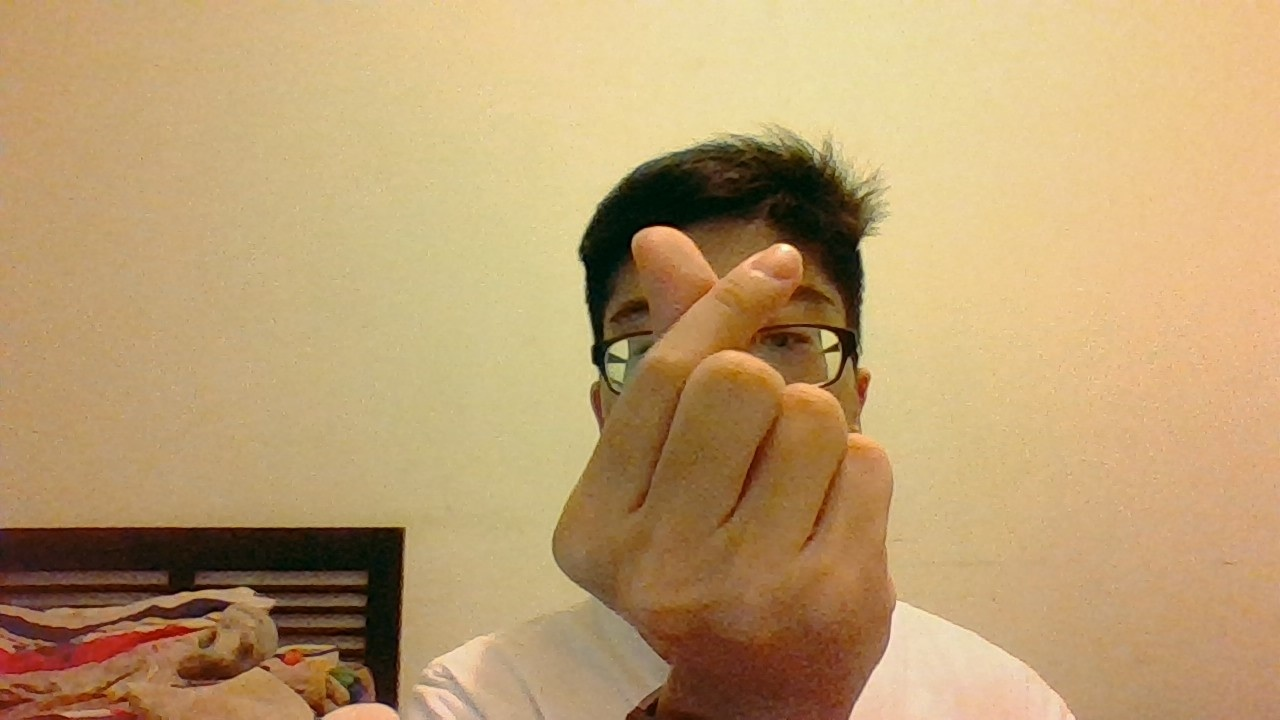I Love You: (545, 216, 901, 686)
